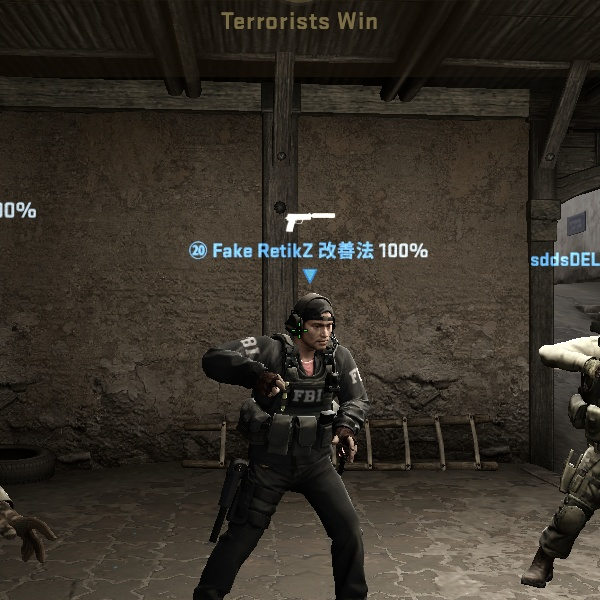ct_body: (202, 290, 389, 600)
ct_head: (275, 289, 345, 358)
